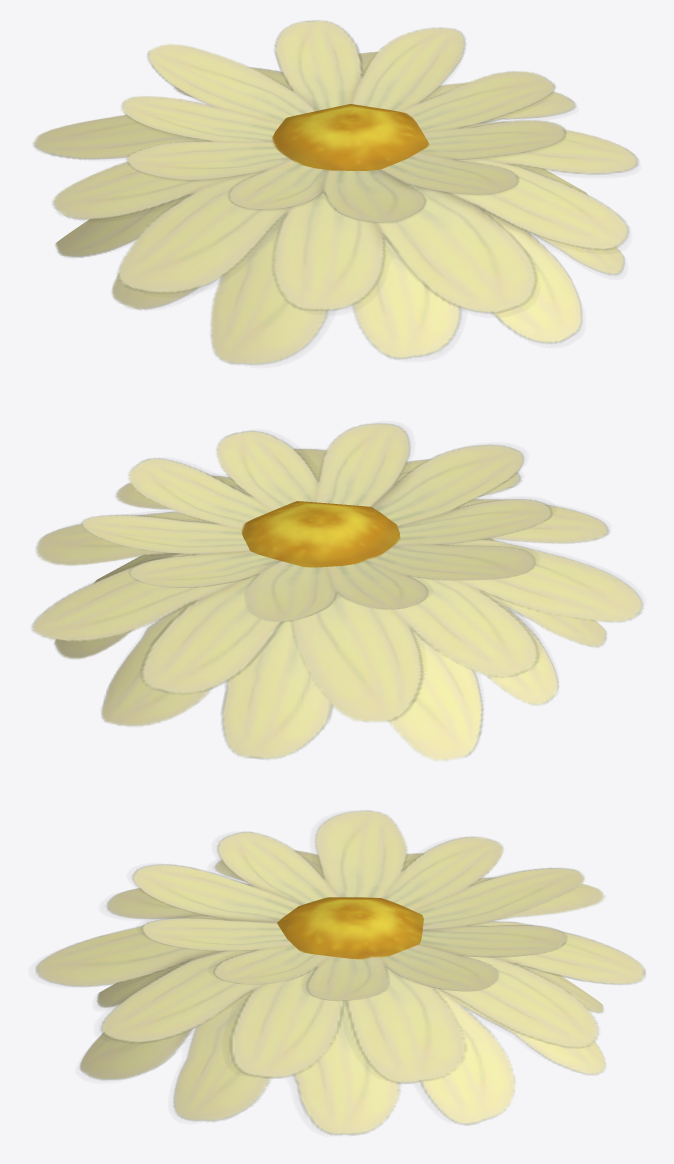
Rendered from PFlower3.glb.
The picture shows the model from 3 angles, top to bottom: view 1: azimuth 30°, elevation 25°; view 2: azimuth 150°, elevation 25°; view 3: azimuth 270°, elevation 25°; orthographic projection. The views are drawn at different scales.
Visible parts, largest first — view 1: PFlower3; view 2: PFlower3; view 3: PFlower3.
Part boxes in pixels (box(x1,y1,x2,y2)): PFlower3: box(33, 20, 638, 365); PFlower3: box(31, 423, 643, 761); PFlower3: box(35, 810, 645, 1135).
Size of the model in its own units: 1.38 by 0.3525 by 1.5.
Materials: 1 (1 with a texture image).
